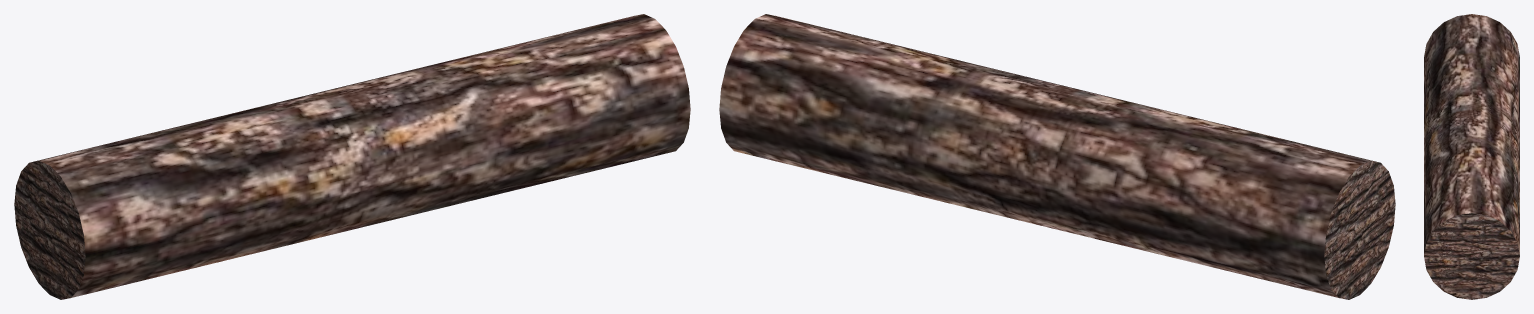
File: Log.fbx
The picture shows the model from 3 angles, left to right: view 1: azimuth 30°, elevation 25°; view 2: azimuth 150°, elevation 25°; view 3: azimuth 270°, elevation 25°; orthographic projection. The views are drawn at different scales.
Visible parts, largest first — view 1: LogWood; view 2: LogWood; view 3: LogWood.
Boxes of the visible parts, x1,y1,x2,y2 form: LogWood: [14, 14, 690, 299]; LogWood: [719, 14, 1395, 299]; LogWood: [1424, 14, 1519, 299].
Bounding box in the file's own units: 1.5 × 0.308 × 0.3063.
